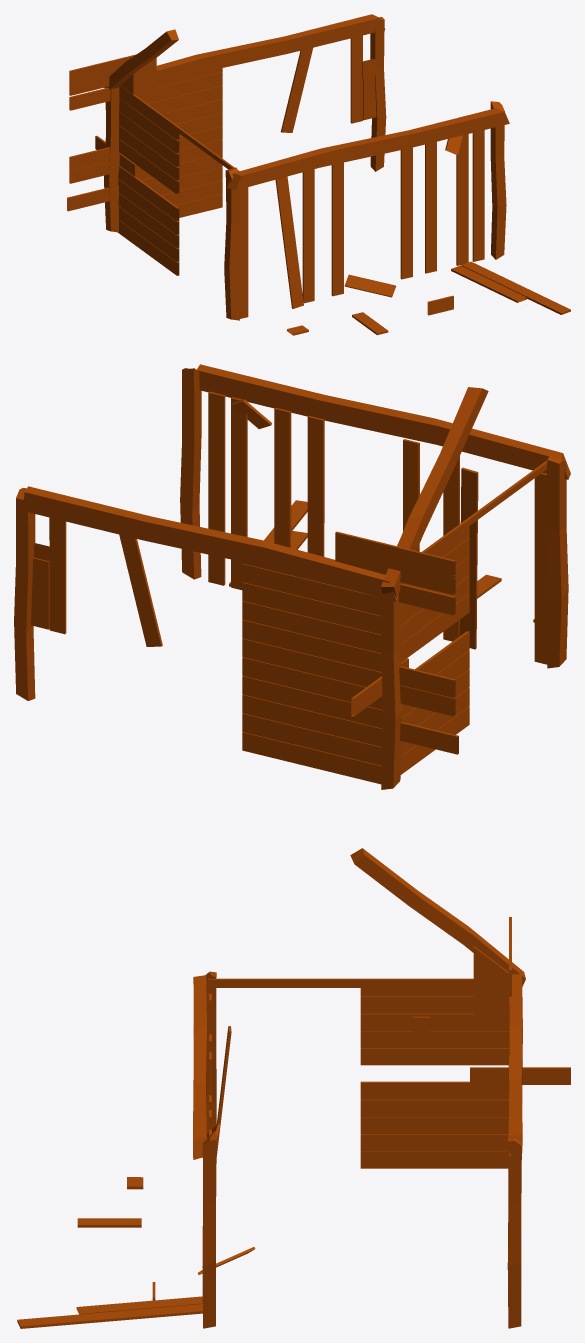
The model's file is House2.fbx.
3 renders of one model, top to bottom at view 1: azimuth 30°, elevation 25°; view 2: azimuth 150°, elevation 25°; view 3: azimuth 270°, elevation 25°, orthographic. The views are drawn at different scales.
Parts seen in each view (by area): view 1: LOW 1.056, LOW 1.032, Cube.062, Cube.067, Cube.058, Cube.059, Cube.060, low poly.378, low poly.072, low poly.050, low poly.250, low poly.251 (+17 smaller); view 2: LOW 1.032, Cube.067, Cube.062, LOW 1.056, Cube.058, Cube.064, Cube.061, Cube.060, Cube.059, low poly.251, low poly.127, low poly.249 (+15 smaller); view 3: LOW 1.056, Cube.064, Cube.061, Cube.059, Cube.062, Cube.067, low poly.254, low poly.268, LOW 1.065, Cube.058, LOW 1.064, low poly.157 (+1 smaller).
Boxes of the visible parts, x1,y1,x2,y2 form: LOW 1.056: (118,85,239,308); LOW 1.032: (136,68,222,217); Cube.062: (227,108,509,190); Cube.067: (135,14,385,83); Cube.058: (224,167,239,320); Cube.059: (490,101,506,259); Cube.060: (104,87,119,232); low poly.378: (331,162,343,296); low poly.072: (302,169,314,303); low poly.050: (275,176,303,308); low poly.250: (400,147,412,279); low poly.251: (472,130,484,261); LOW 1.032: (242,562,382,784); Cube.067: (23,486,398,601); Cube.062: (196,364,570,479); LOW 1.056: (400,460,547,774); Cube.058: (547,456,568,668); Cube.064: (381,387,488,597); Cube.061: (14,488,35,700); Cube.060: (381,594,402,789); Cube.059: (180,368,201,579); low poly.251: (208,391,225,585); low poly.127: (534,472,548,664); low poly.249: (231,397,247,589); LOW 1.056: (208,978,509,1168); Cube.064: (350,848,525,986); Cube.061: (507,1135,521,1328); Cube.059: (202,1131,216,1328); Cube.062: (193,975,206,1159); Cube.067: (508,971,522,1156); low poly.254: (17,1304,202,1328); low poly.268: (470,1067,570,1084); LOW 1.065: (473,946,491,1026); Cube.058: (205,971,216,1133); LOW 1.064: (490,959,509,1026); low poly.157: (76,1296,202,1314).
Size of the model in its own units: 1212 by 834 by 1241.
